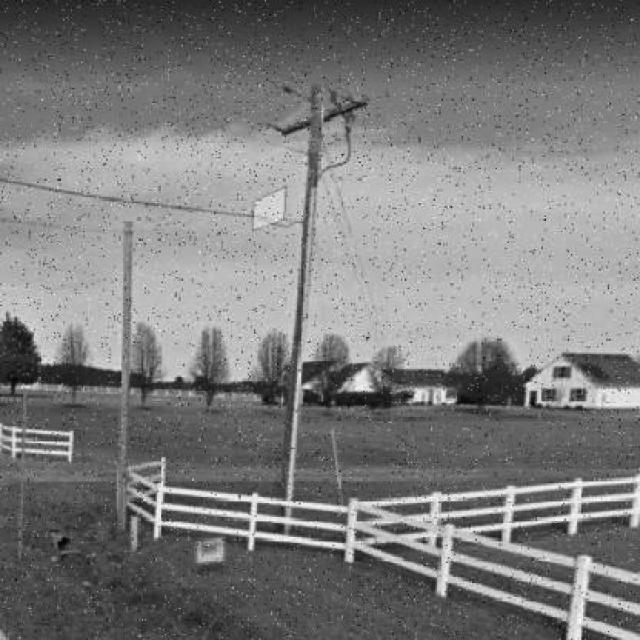crossarm: (279, 100, 366, 140)
pole: (275, 82, 323, 548)
wire: (1, 177, 297, 227), (316, 116, 353, 182)
